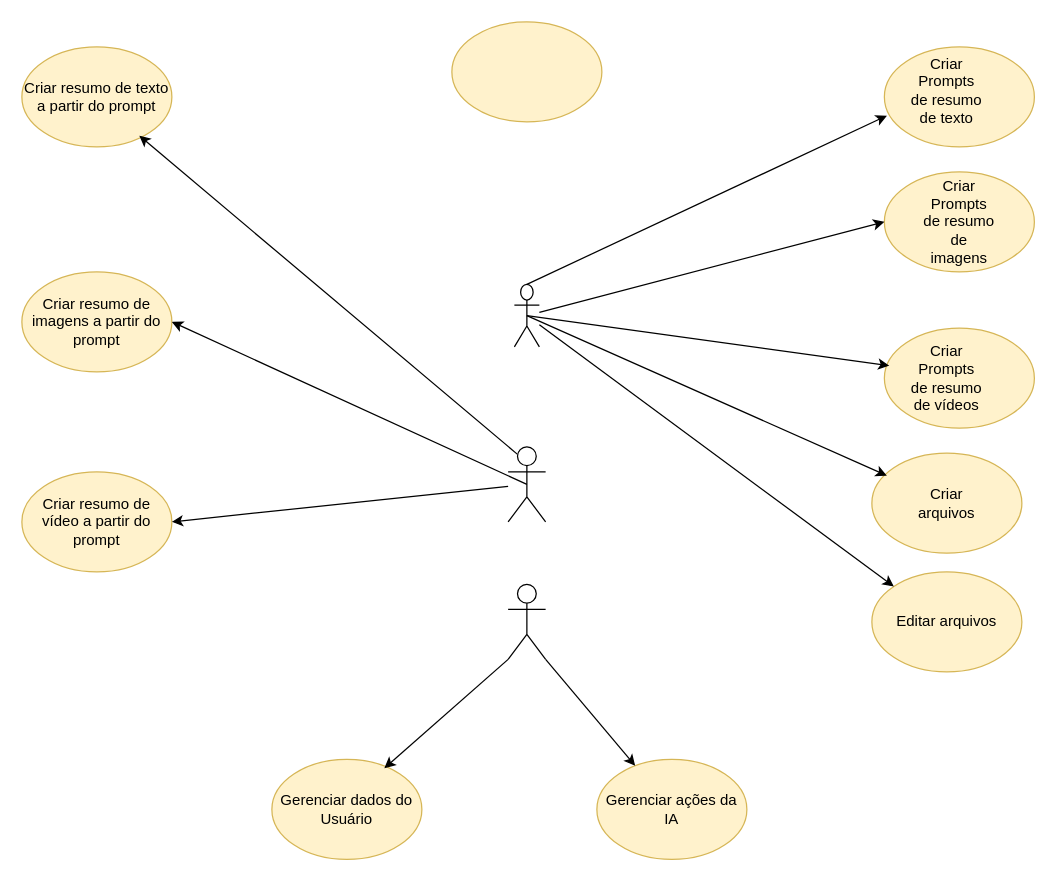
This 1056x881 diagram has some shape labels left out. Each missing label, with the centre of its shape:
Inteligencia Artificial: the point at 526,484
Sistema: the point at 526,621
Usuário: the point at 526,315
